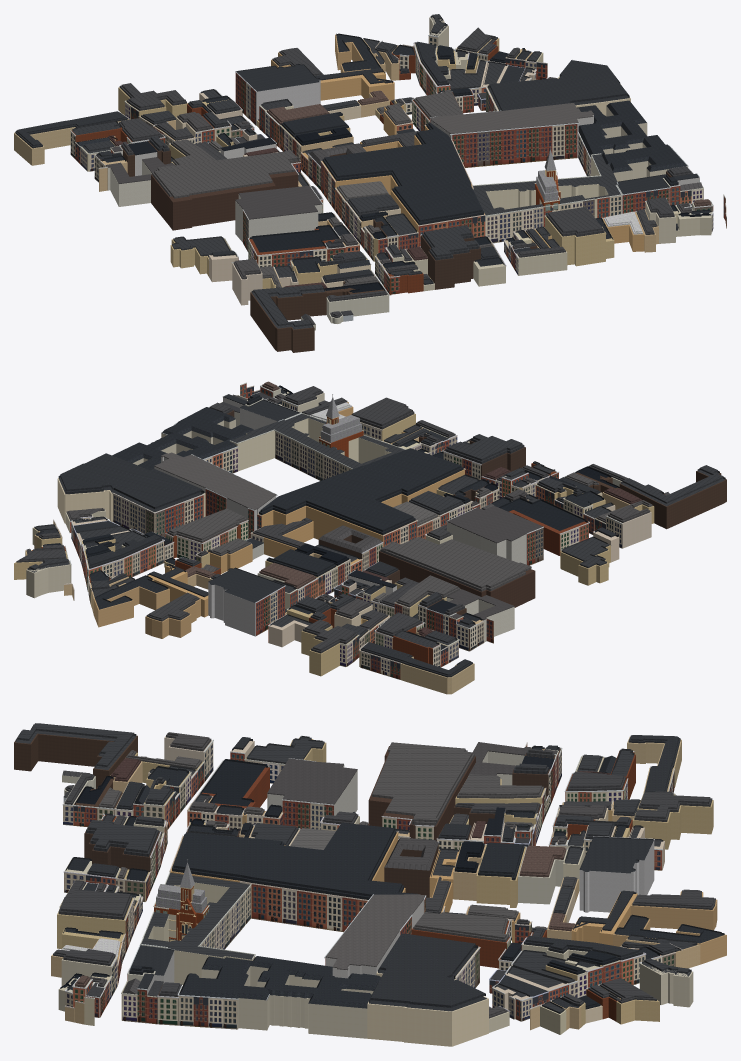
3 views of the same model, one above another, from view 1: azimuth 30°, elevation 25°; view 2: azimuth 150°, elevation 25°; view 3: azimuth 270°, elevation 25° (orthographic). The views are drawn at different scales.
Parts seen in each view (by area): view 1: bldg_495714678_roof_b, bldg_495714685_facade2, bldg_13454320_roof, bldg_1004018369_roof_b, bldg_495716509_roof_b, bldg_495716509, bldg_495714685_roof, bldg_496126658, bldg_495716514_roof, bldg_13454319_roof, bldg_13454319, bldg_126218982 (+43 smaller); view 2: bldg_495714678_roof_b, bldg_1004018369_roof_b, bldg_495716509_roof_b, bldg_13454320_roof, bldg_495714685_roof, bldg_13454319, bldg_495714678, bldg_495716509, bldg_496126658, bldg_495716514_roof, bldg_13454319_facade0, bldg_13454319_roof (+52 smaller); view 3: bldg_495714678_roof_b, bldg_13454320_roof, bldg_1004018369_roof_b, bldg_495716509_roof_b, bldg_13454320, bldg_1004018369, bldg_495714685_roof, bldg_495714678_facade4, bldg_496126658, bldg_495716514_roof, bldg_13454319_roof, bldg_495714644 (+62 smaller).
Part boxes in pixels (x1,y1,x2,y2): bldg_495714678_roof_b: [324, 122, 482, 221]; bldg_495714685_facade2: [450, 122, 579, 167]; bldg_13454320_roof: [577, 100, 686, 172]; bldg_1004018369_roof_b: [489, 60, 627, 110]; bldg_495716509_roof_b: [154, 150, 298, 198]; bldg_495716509: [151, 161, 300, 230]; bldg_495714685_roof: [430, 103, 593, 133]; bldg_496126658: [250, 290, 326, 352]; bldg_495716514_roof: [235, 185, 322, 219]; bldg_13454319_roof: [473, 154, 620, 215]; bldg_13454319: [485, 156, 608, 237]; bldg_126218982: [421, 235, 480, 289]; bldg_495714678_roof_b: [260, 448, 461, 531]; bldg_1004018369_roof_b: [60, 453, 202, 508]; bldg_495716509_roof_b: [381, 537, 531, 588]; bldg_13454320_roof: [112, 407, 253, 469]; bldg_495714685_roof: [154, 452, 276, 510]; bldg_13454319: [237, 418, 391, 471]; bldg_495714678: [258, 469, 464, 546]; bldg_495716509: [379, 551, 535, 607]; bldg_496126658: [619, 471, 726, 529]; bldg_495716514_roof: [447, 506, 543, 543]; bldg_13454319_facade0: [274, 430, 348, 480]; bldg_13454319_roof: [231, 414, 404, 468]; bldg_495714678_roof_b: [173, 822, 418, 896]; bldg_13454320_roof: [179, 956, 380, 1008]; bldg_1004018369_roof_b: [371, 933, 485, 1007]; bldg_495716509_roof_b: [372, 742, 472, 822]; bldg_13454320: [178, 966, 373, 1038]; bldg_1004018369: [367, 947, 488, 1046]; bldg_495714685_roof: [325, 894, 425, 970]; bldg_495714678_facade4: [249, 883, 368, 932]; bldg_496126658: [14, 728, 137, 788]; bldg_495716514_roof: [267, 758, 357, 804]; bldg_13454319_roof: [141, 873, 253, 959]; bldg_495714644: [579, 840, 654, 912].
Size of the model in its own units: 293 by 41.67 by 300.
Materials: 127 (55 with a texture image).
